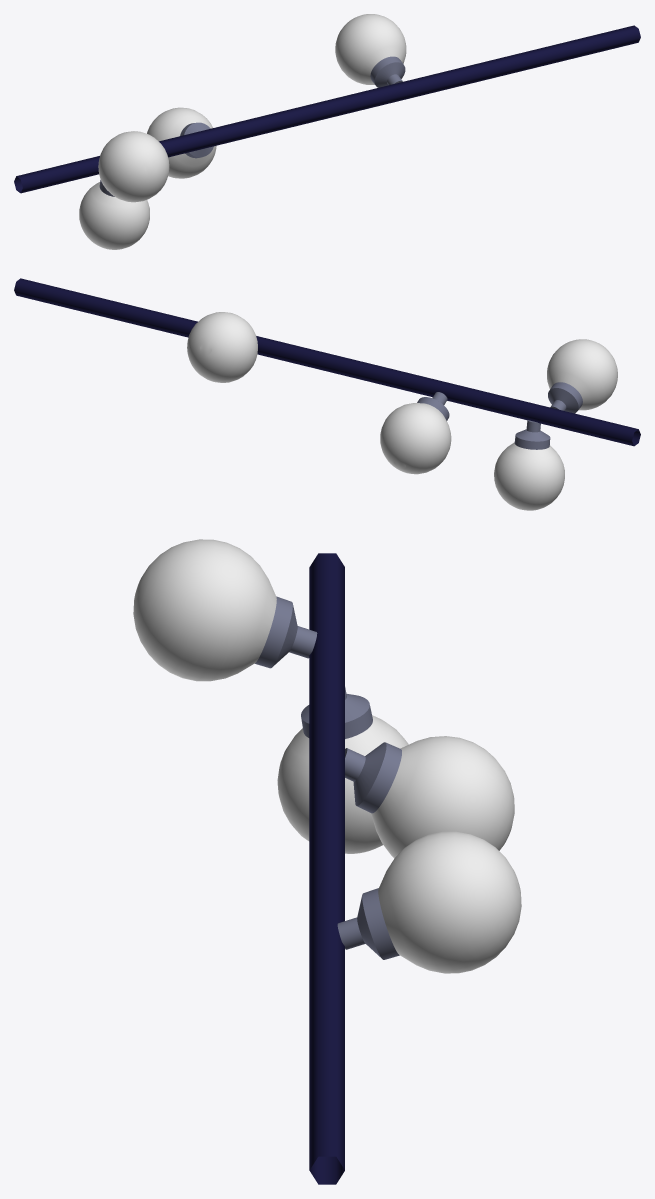
File: Guirlande droite v2.001.fbx
The picture shows the model from 3 angles, top to bottom: view 1: azimuth 30°, elevation 25°; view 2: azimuth 150°, elevation 25°; view 3: azimuth 270°, elevation 25°; orthographic projection. The views are drawn at different scales.
Visible parts, largest first — view 1: BézierCurve; view 2: BézierCurve; view 3: BézierCurve.
Part boxes in pixels (x1,y1,x2,y2): BézierCurve: (14,14,640,249); BézierCurve: (14,278,640,510); BézierCurve: (133,539,521,1184).
Bounding box in the file's own units: 54.39 × 200 × 44.1.
